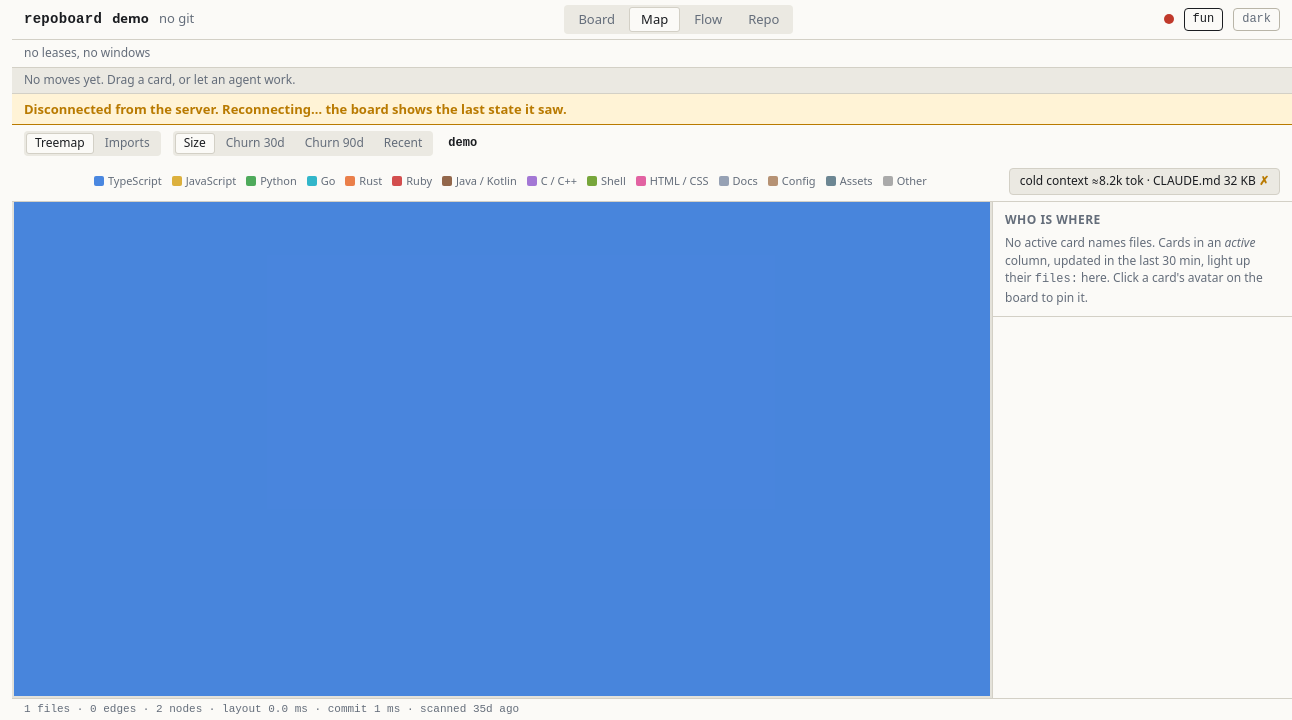
Test: CostTile (P8.4) › clicking the tile opens the panel with the full table; Escape closes it
The width and height of the screenshot is (1292, 720).
Click the button with test id "cost-tile" at (1144, 181), box [1009,168,1280,195]
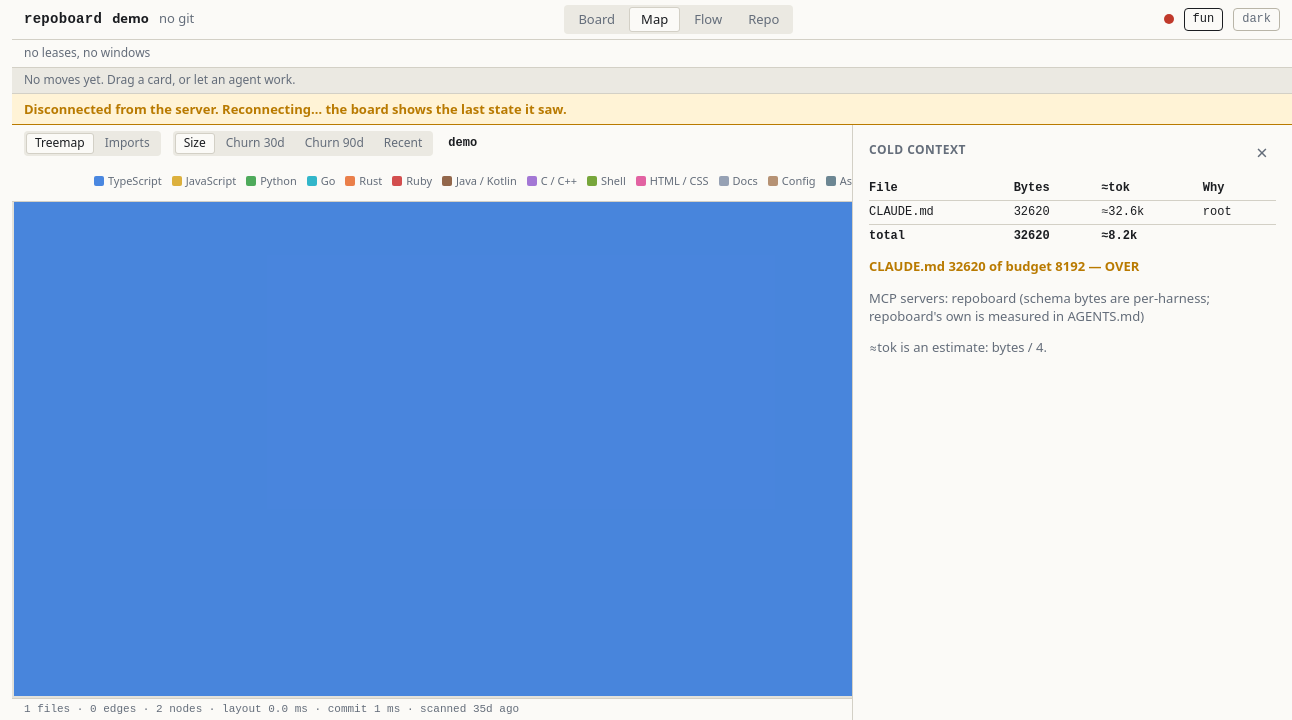
Result: the element with test id "cost-panel" shows "CLAUDE.md" at [869,205,934,219]
Result: the element with test id "cost-panel" shows "32620 of budget 8192" at [869,257,1139,275]
Result: the element with test id "cost-panel" shows "OVER" at [869,257,1139,275]
Press Escape
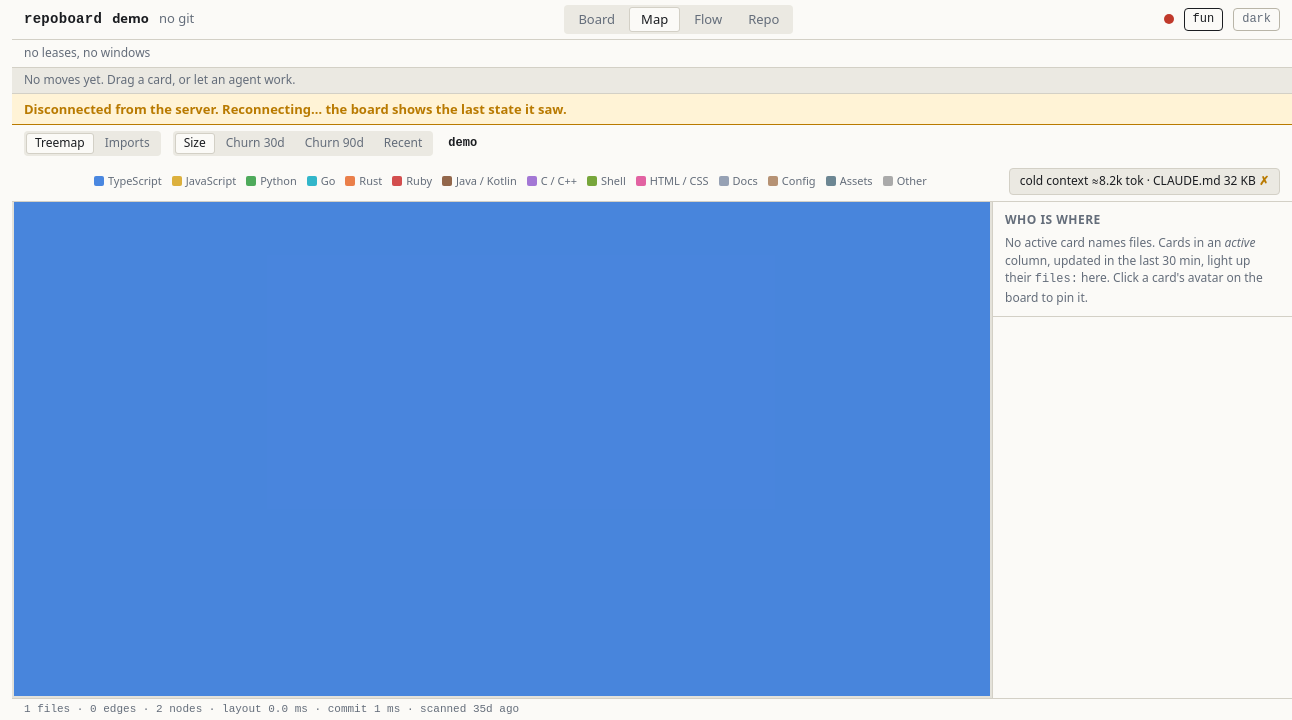
Result: the element with test id "cost-panel" is gone
